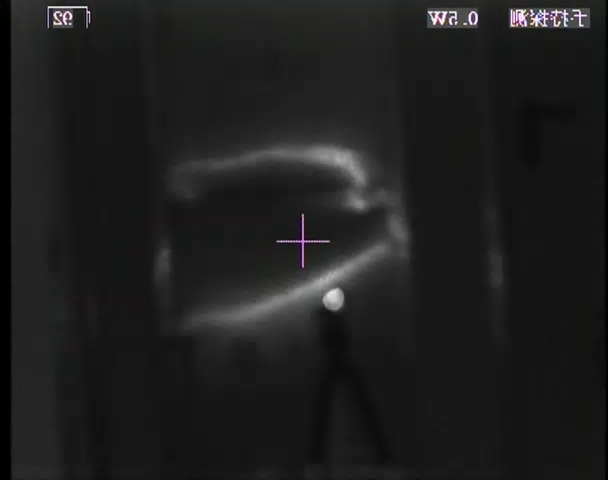my: (321, 284, 347, 314)
